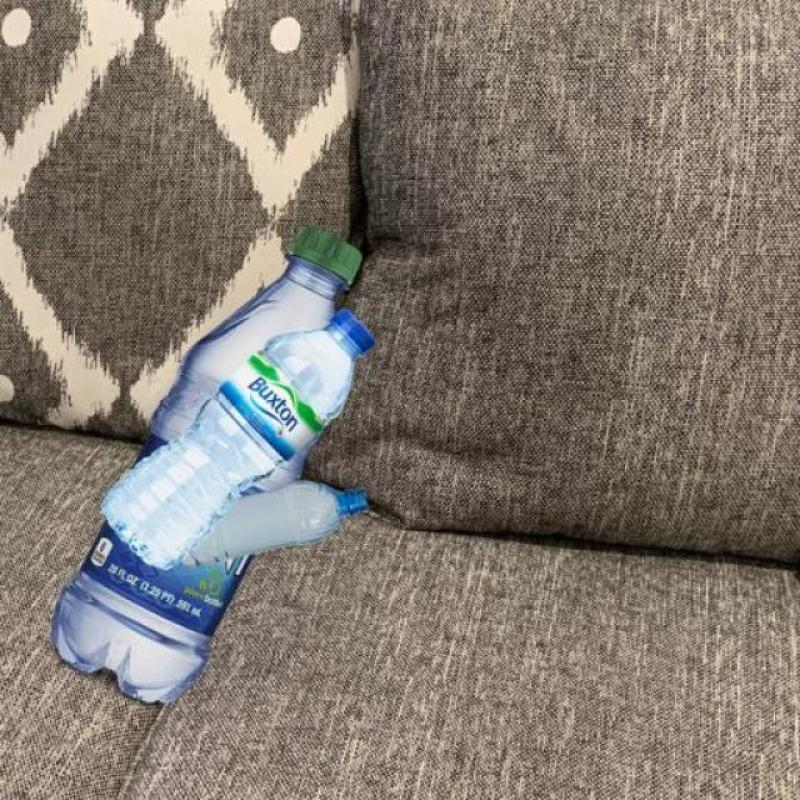botella: (47, 222, 367, 702), (100, 309, 374, 571), (182, 479, 368, 565)
